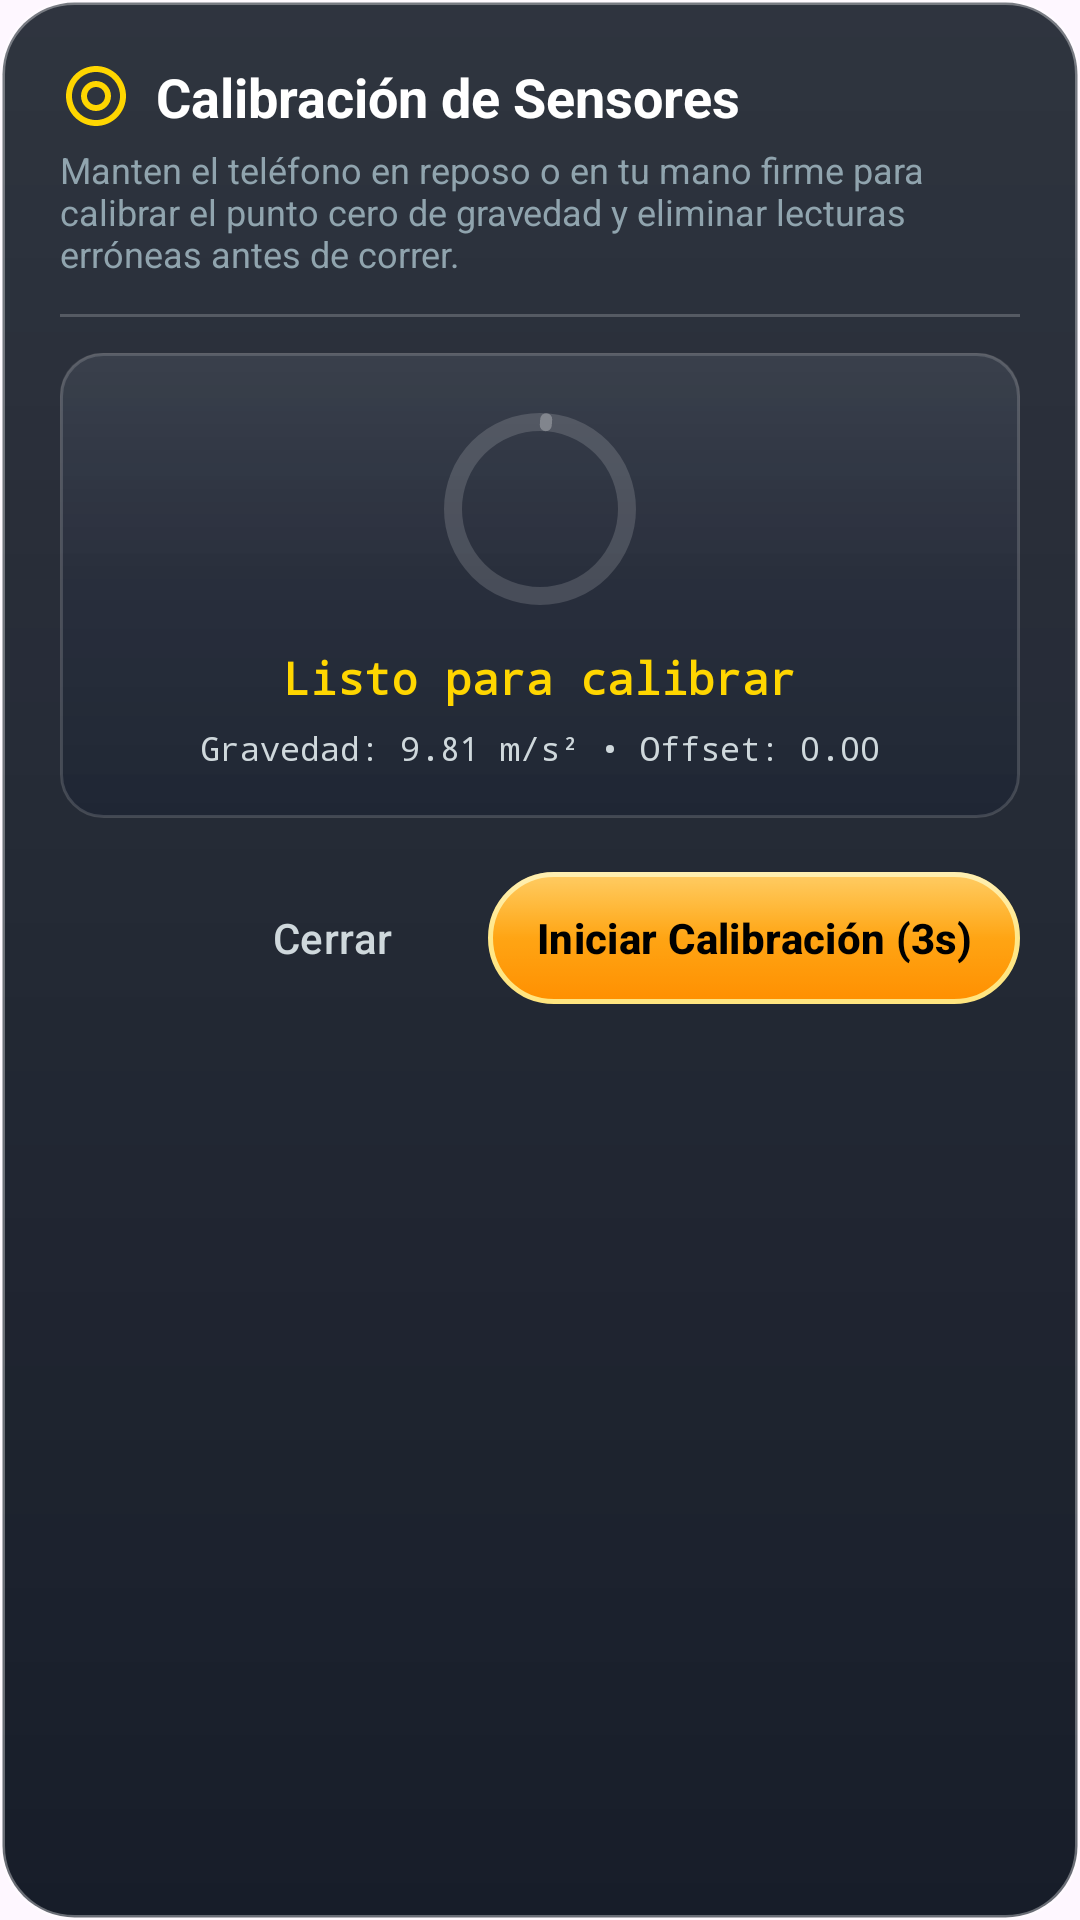

Icon bounding boxes for this 1080*1920 phone screenshot, format (x1, y1, x2, y2):
calibrate: (66, 66, 126, 126)
